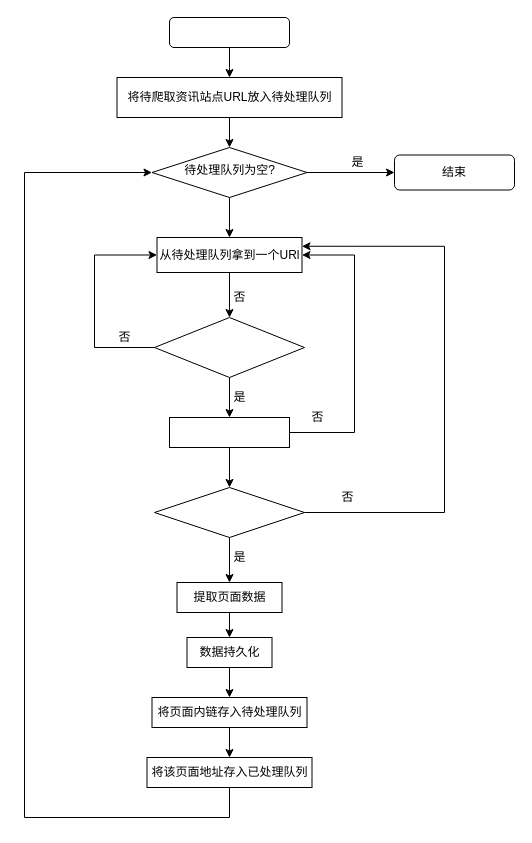
The diagram is 532 pixels wide and 843 high, and some of its shapes have lost their labels. The centre of each missing label's shape, as x and y in pixels:
"下载成功?" belongs at [229,512].
"下载该页面" belongs at [229,432].
"开始" belongs at [229,32].
"该URL没有被处理过?" belongs at [229,347].
